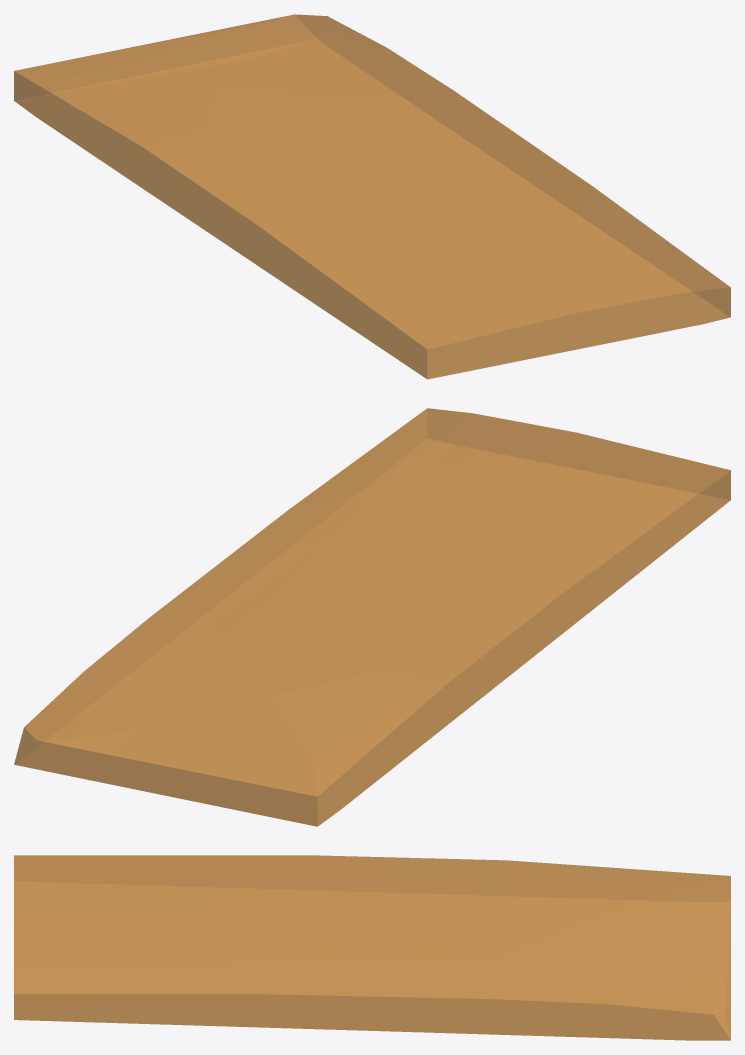
3 renders of one model, top to bottom at view 1: azimuth 30°, elevation 25°; view 2: azimuth 150°, elevation 25°; view 3: azimuth 270°, elevation 25°, orthographic. The views are drawn at different scales.
Parts seen in each view (by area): view 1: Shape_IndexedFaceSet.011_Shape_IndexedFaceSet.11155; view 2: Shape_IndexedFaceSet.011_Shape_IndexedFaceSet.11155; view 3: Shape_IndexedFaceSet.011_Shape_IndexedFaceSet.11155.
Boxes of the visible parts, x1,y1,x2,y2 form: Shape_IndexedFaceSet.011_Shape_IndexedFaceSet.11155: (14,14,730,379); Shape_IndexedFaceSet.011_Shape_IndexedFaceSet.11155: (14,408,730,826); Shape_IndexedFaceSet.011_Shape_IndexedFaceSet.11155: (14,855,730,1040).
Size of the model in its own units: 0.174 by 0.0361 by 0.4104.
